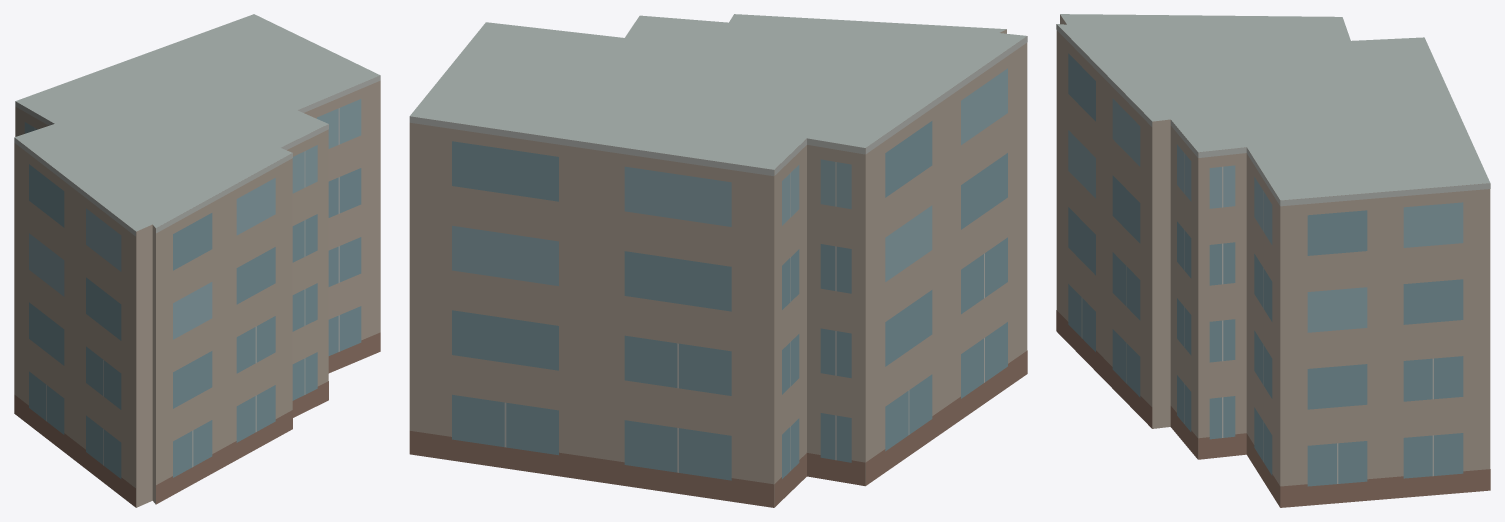
Rendered from survey-upis-32623030.glb.
The picture shows the model from 3 angles, left to right: view 1: azimuth 30°, elevation 25°; view 2: azimuth 150°, elevation 25°; view 3: azimuth 270°, elevation 25°; orthographic projection. The views are drawn at different scales.
Parts seen in each view (by area): view 1: survey-upis-32623030.tmp; view 2: survey-upis-32623030.tmp; view 3: survey-upis-32623030.tmp.
Boxes of the visible parts, x1,y1,x2,y2 form: survey-upis-32623030.tmp: (14, 14, 380, 507); survey-upis-32623030.tmp: (409, 14, 1027, 507); survey-upis-32623030.tmp: (1056, 14, 1490, 507).
Size of the model in its own units: 16.66 by 12.8 by 16.39.
